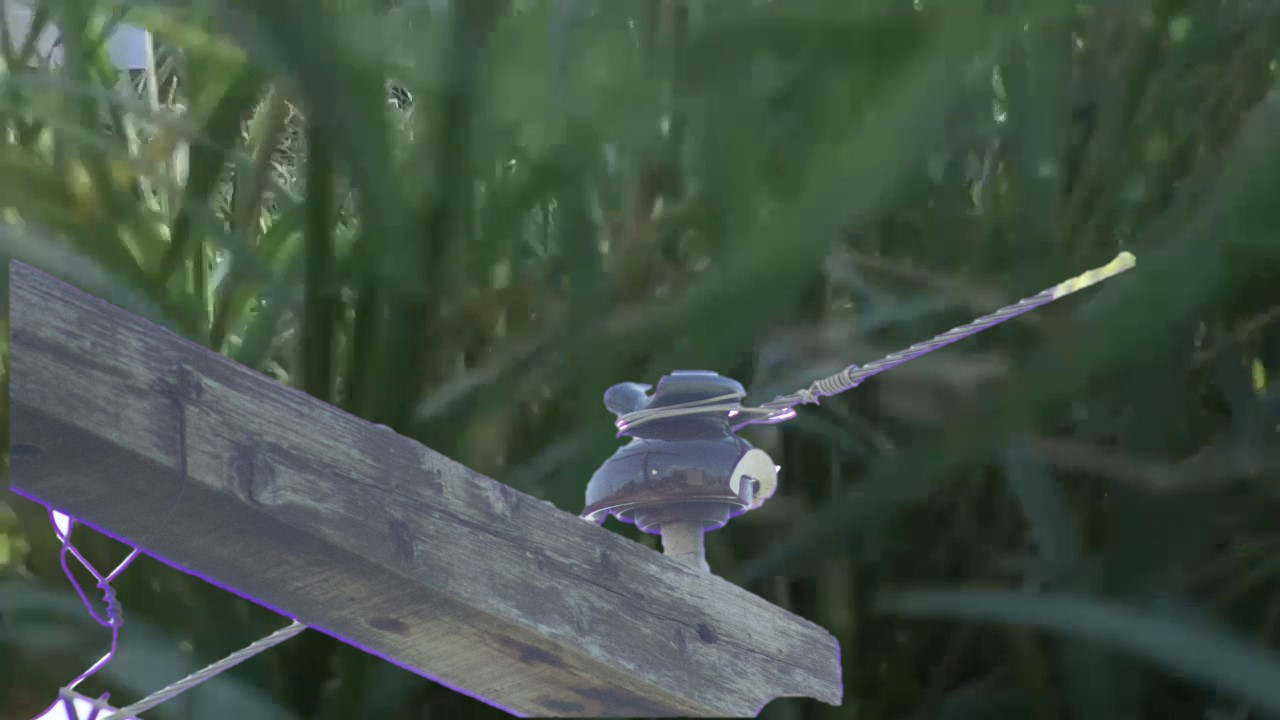defect_pin: (579, 362, 791, 528)
